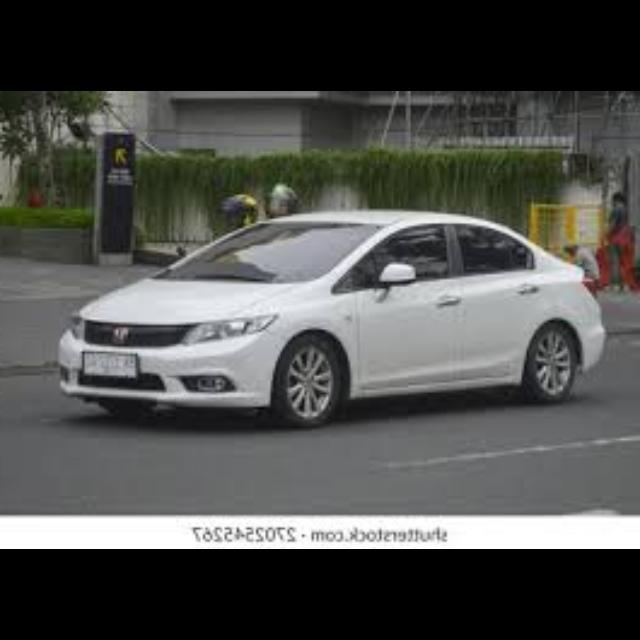vehicles: (52, 192, 616, 434)
